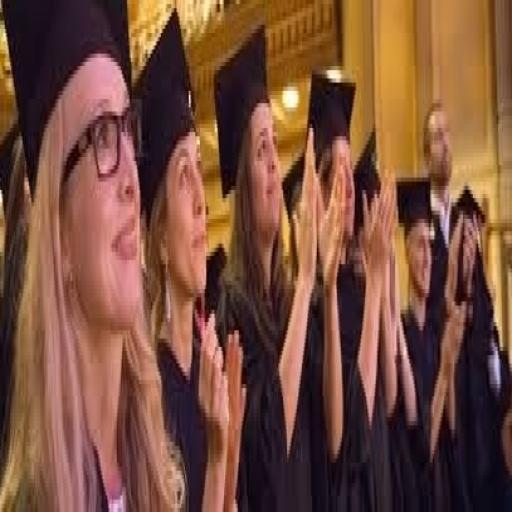clapping: (2, 0, 510, 508)
